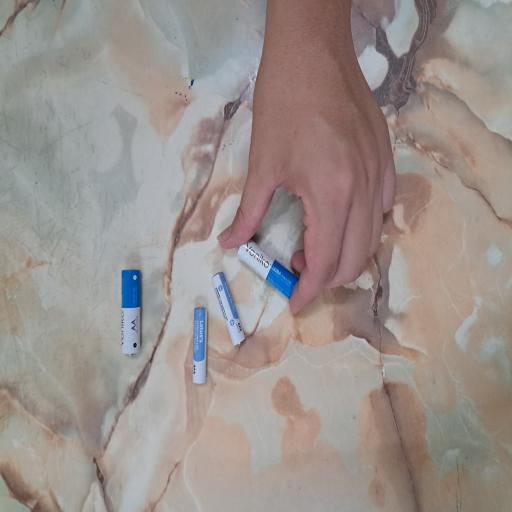battery: (158, 314, 206, 400), (124, 281, 181, 328), (116, 161, 183, 188), (95, 255, 155, 278)
